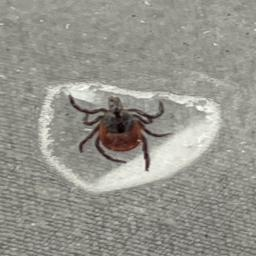Ixodes scapularis: (68, 96, 174, 170)
